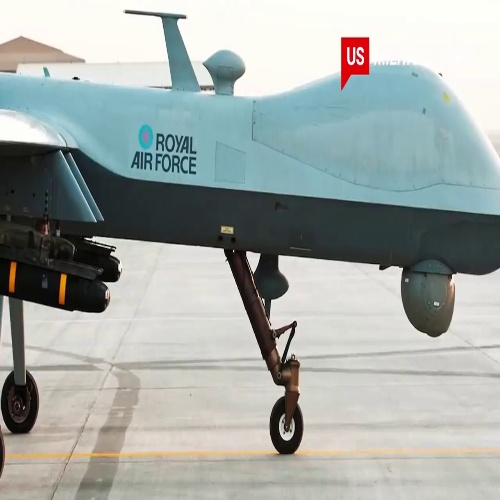uav: (1, 12, 499, 456)
